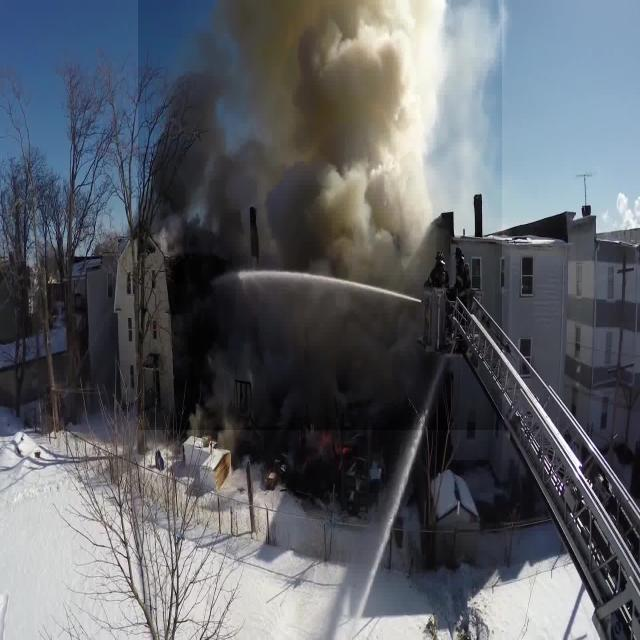Smoke: (138, 0, 502, 430)
